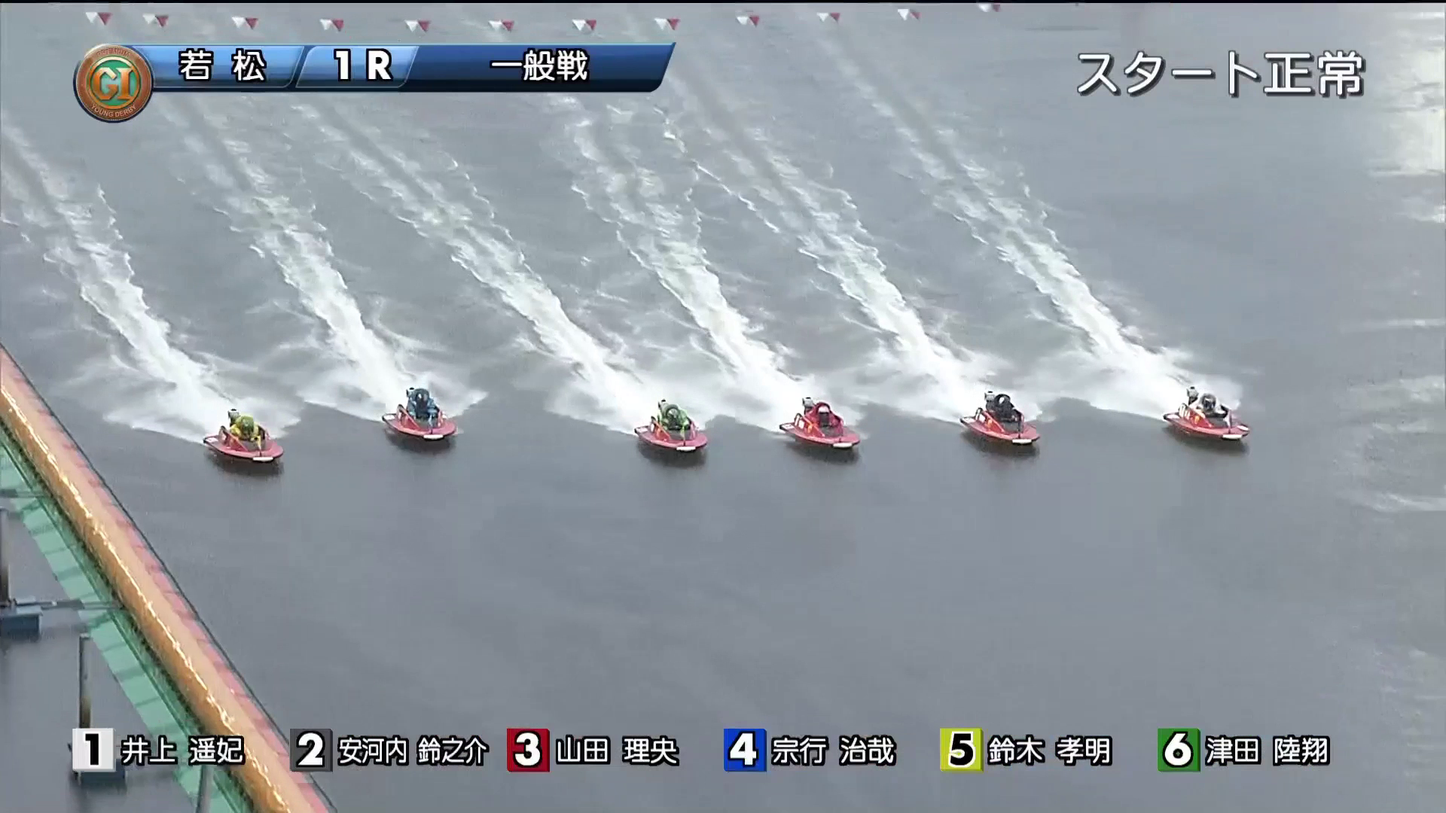１号艇: (1181, 412, 1257, 452)
２号艇: (752, 344, 841, 381)
３号艇: (706, 373, 797, 415)
４号艇: (665, 399, 770, 442)
５号艇: (555, 429, 676, 484)
６号艇: (588, 474, 687, 531)
